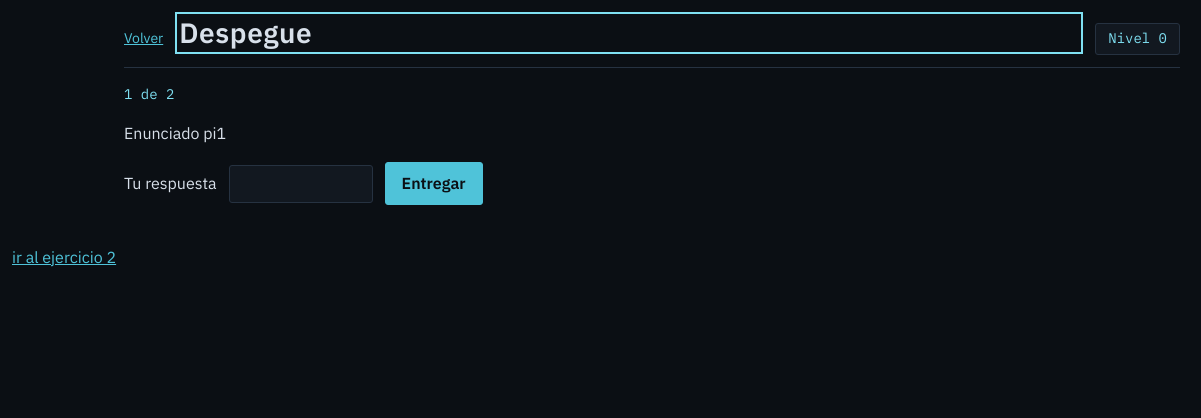
Test: Despegue › Repetir monta una tanda nueva y devuelve el foco al título
Expected: the heading "Despegue" is shown, [179,14,312,51]
Expected: the button "Entregar" is enabled, [385,162,483,205]
Type "5" into the field labelled "Tu respuesta".
click(301, 184); type("5")  # box [229,165,373,203]
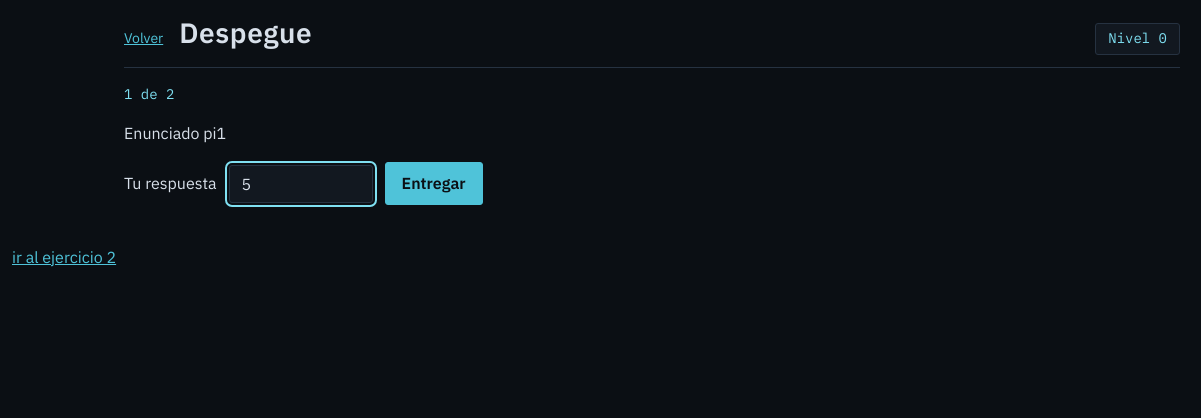
Click the button "Entregar".
click(434, 184)  # box [385,162,483,205]
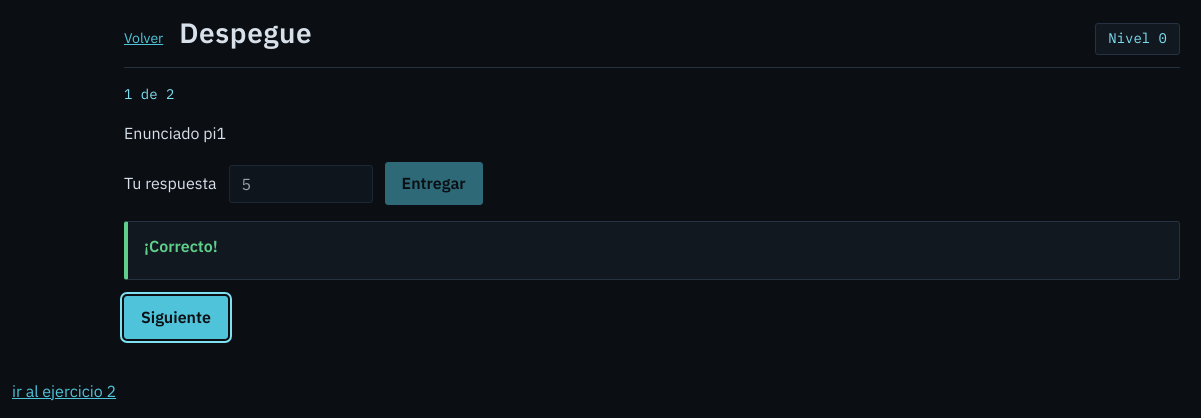
Click the button "Siguiente".
click(176, 317)  # box [124,296,228,339]
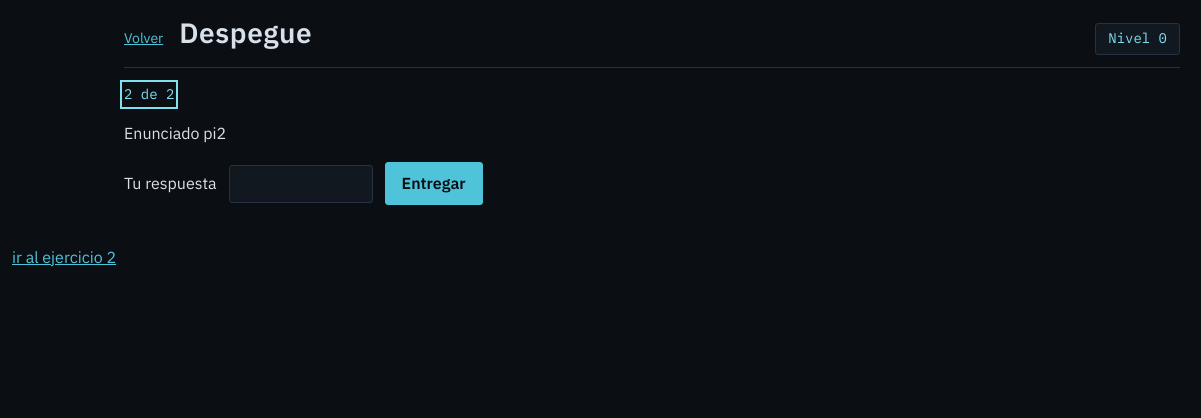
Expected: the button "Entregar" is enabled, [385,162,483,205]
Type "5" into the field labelled "Tu respuesta".
click(301, 184); type("5")  # box [229,165,373,203]
Click the button "Entregar".
click(434, 184)  # box [385,162,483,205]
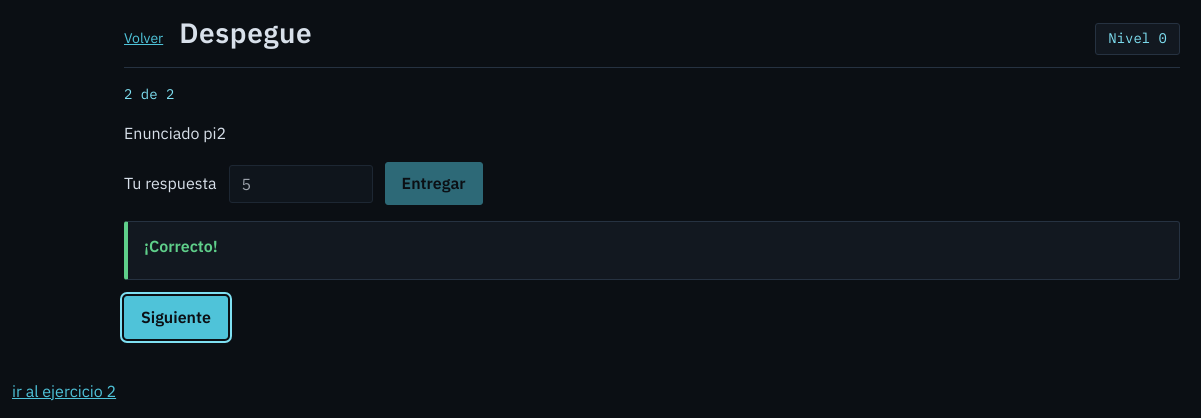
Click the button "Siguiente".
click(176, 317)  # box [124,296,228,339]
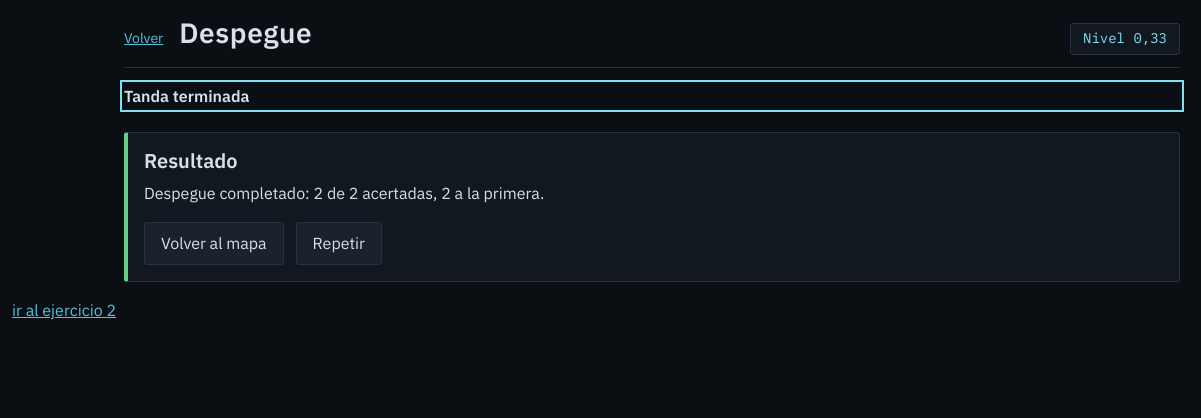
Click the button "Repetir".
click(339, 244)  # box [296,222,382,265]
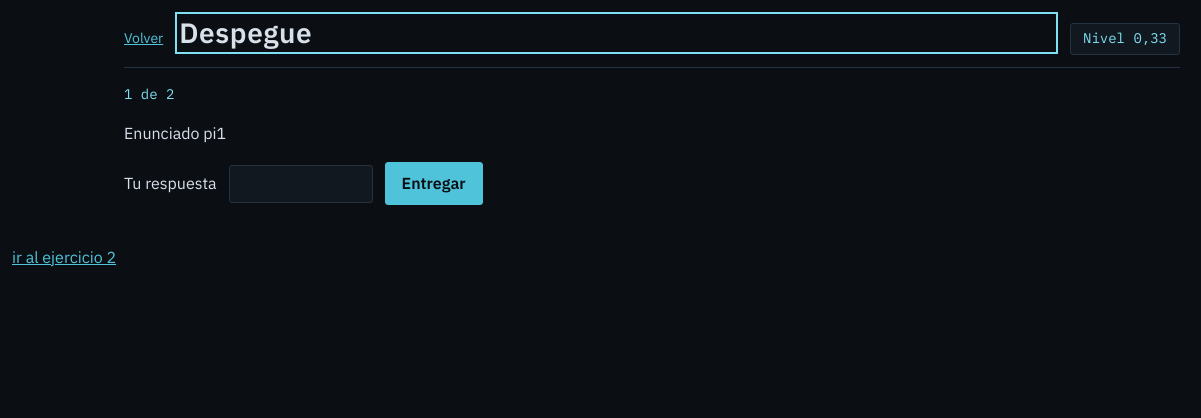
Expected: the text "1 de 2" is shown, [124,84,174,105]
